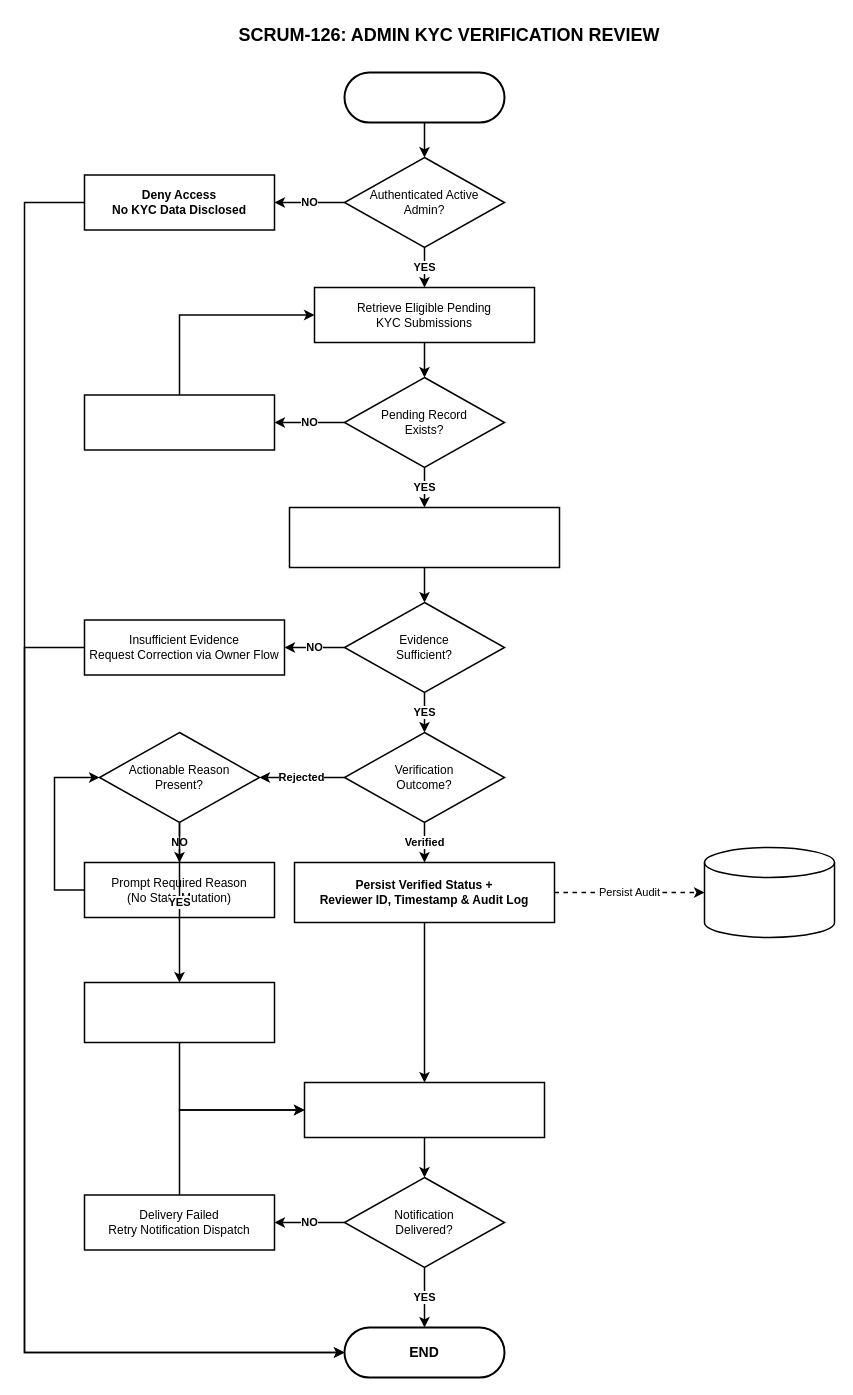
This 853x1395 diagram has some shape labels left out. Each missing label, with the box of its shape:
Inspect Identity / Government ID & Document Evidence (Private Storage): (288, 506, 560, 568)
Landlord KYC & Audit DB: (703, 846, 835, 938)
Notify Landlord of Outcome via Configured Channel: (303, 1081, 545, 1138)
Persist Rejected Status + Reason & Admin Audit Log: (83, 981, 275, 1043)
Stale / Reviewed Record Reload Queue: (83, 394, 275, 450)
START: (343, 71, 505, 123)
